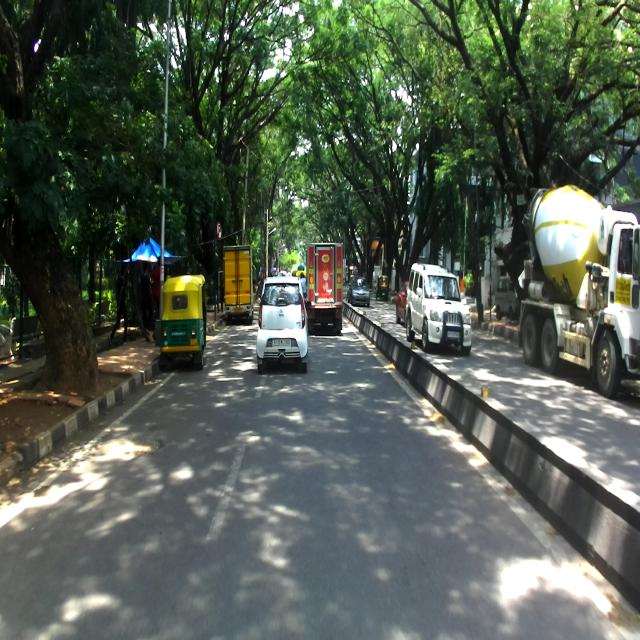auto ahead at: (160, 279, 205, 368)
car ahead at: (255, 277, 305, 373)
